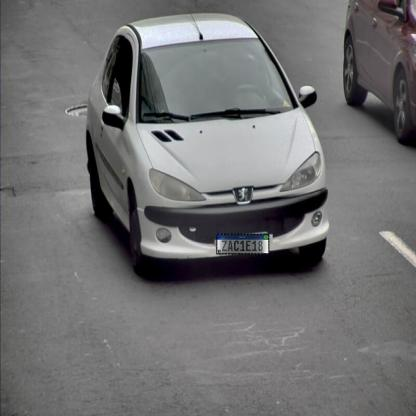PlacaM: (216, 234, 270, 254)
